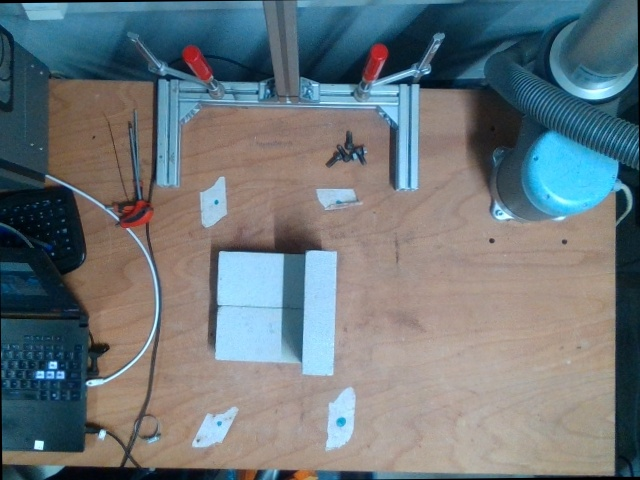brick-side: (300, 252, 337, 375)
